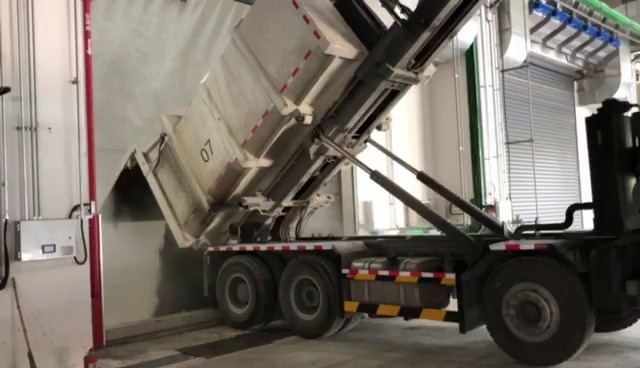dust: (94, 45, 219, 139), (108, 229, 155, 316)
truck: (134, 0, 640, 368)
